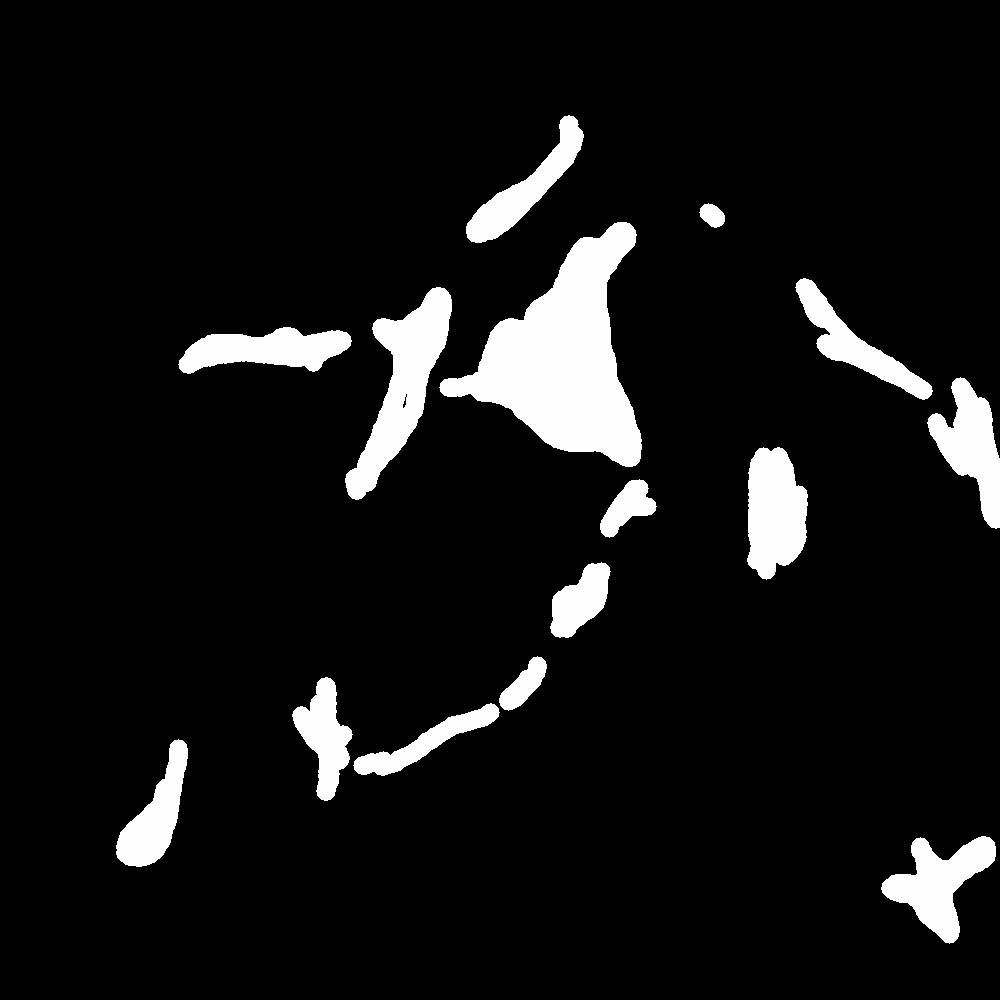illegal: (511, 223, 640, 447), (353, 303, 446, 498), (797, 280, 927, 399), (480, 107, 591, 235), (891, 835, 1000, 941), (428, 653, 547, 742), (172, 324, 348, 382), (596, 463, 655, 540), (553, 565, 618, 631), (746, 458, 771, 569), (241, 543, 294, 586)
